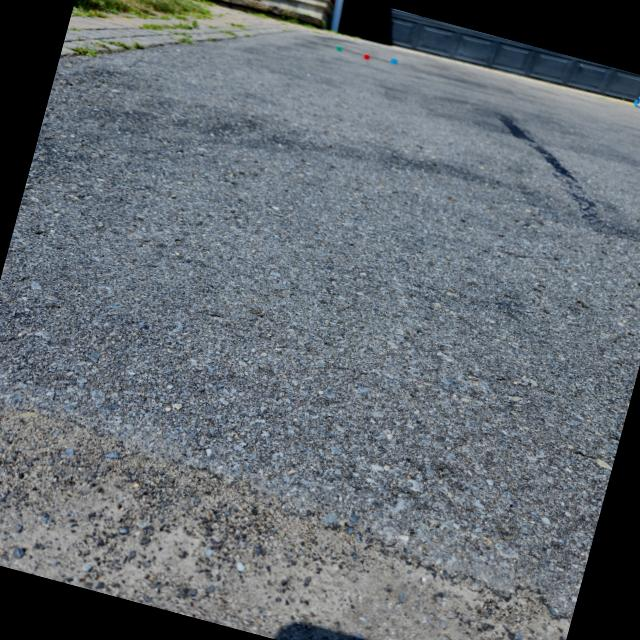bluecube: (389, 58, 398, 64)
green cube: (335, 44, 342, 51)
red cube: (363, 53, 370, 60)
